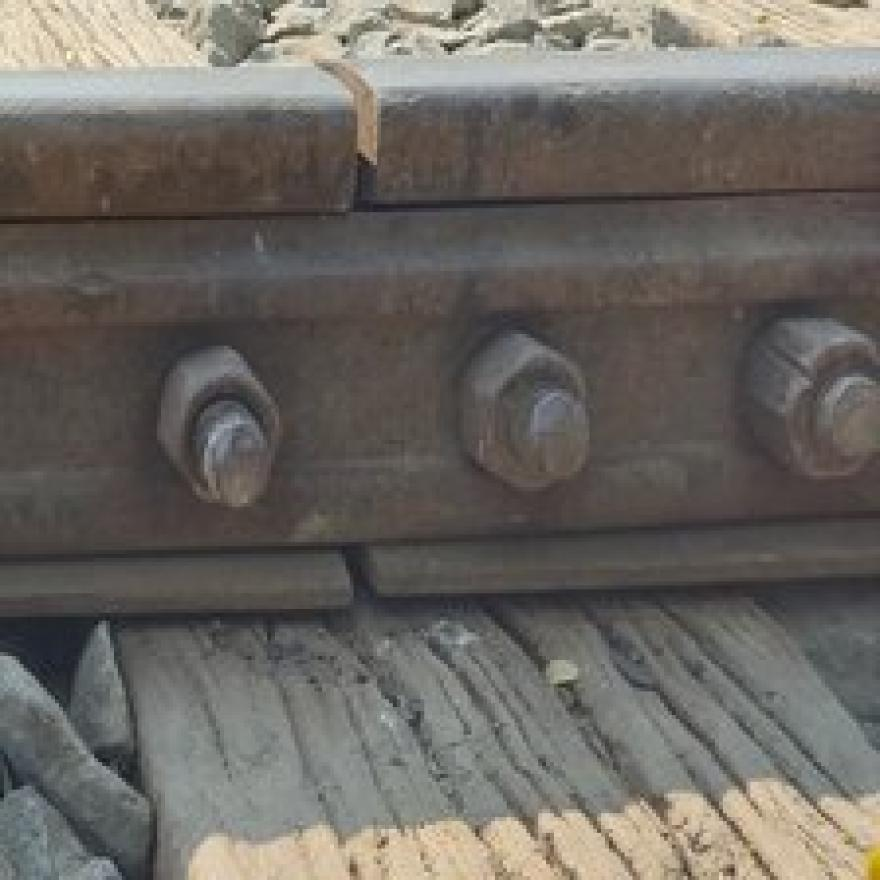railway-gap: (227, 15, 494, 248), (274, 500, 444, 640)
